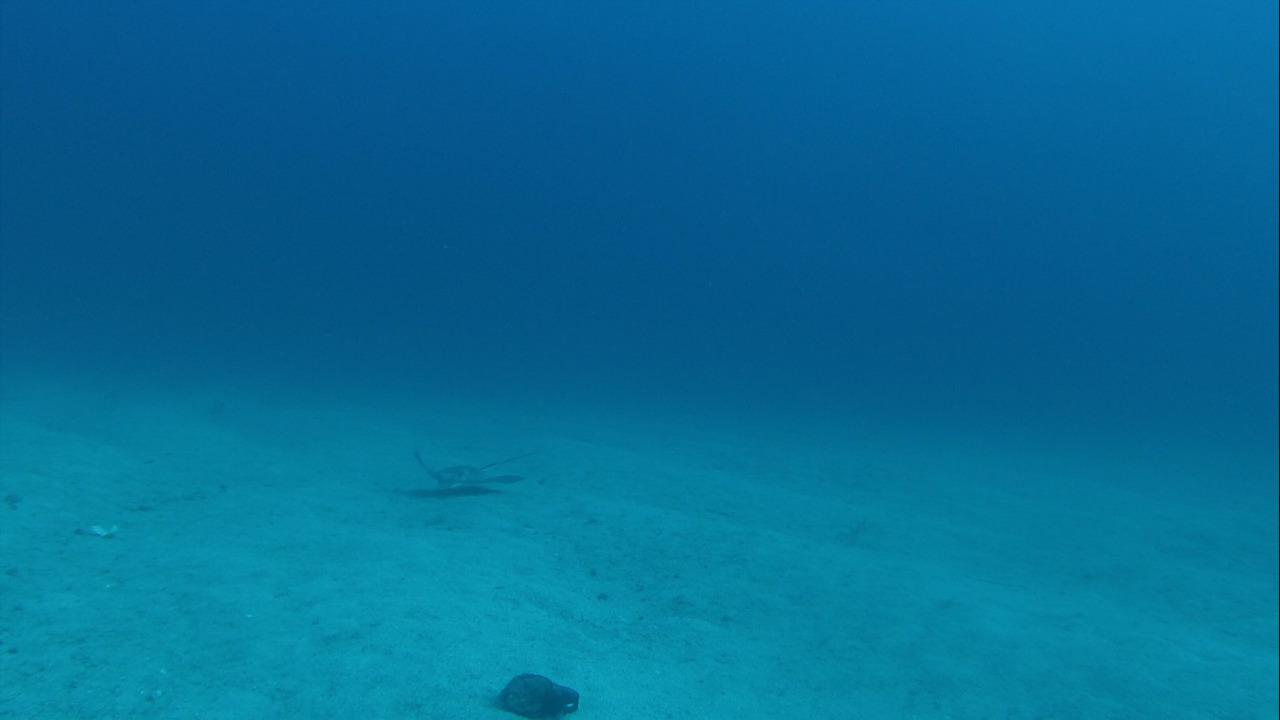myliobatis: (399, 441, 552, 500)
